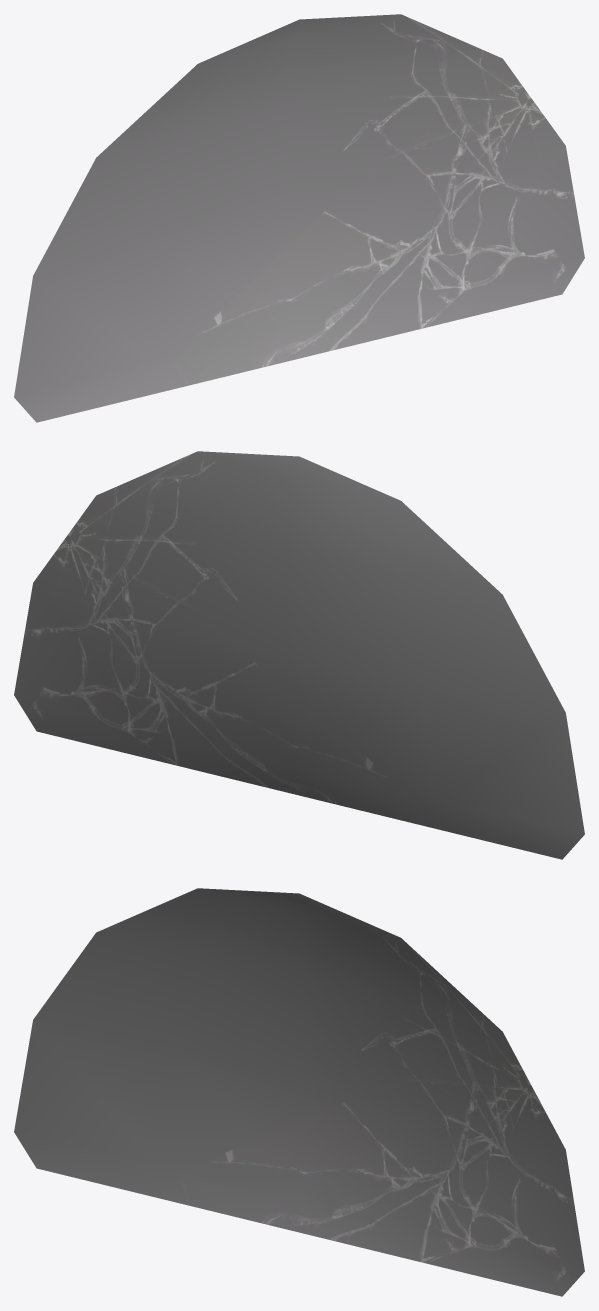
The model's file is 01_05_transporter_fronthatch_broken_glass.dae.
The picture shows the model from 3 angles, top to bottom: view 1: azimuth 30°, elevation 25°; view 2: azimuth 150°, elevation 25°; view 3: azimuth 330°, elevation 25°; orthographic projection.
Visible parts, largest first — view 1: fronthatch; view 2: fronthatch; view 3: fronthatch.
Boxes of the visible parts, left/top/right/bottom form: fronthatch: left=14, top=14, right=584, bottom=422; fronthatch: left=14, top=451, right=584, bottom=859; fronthatch: left=14, top=888, right=584, bottom=1296.
Size of the model in its own units: 2.37 by 1.35 by 0.0783.
